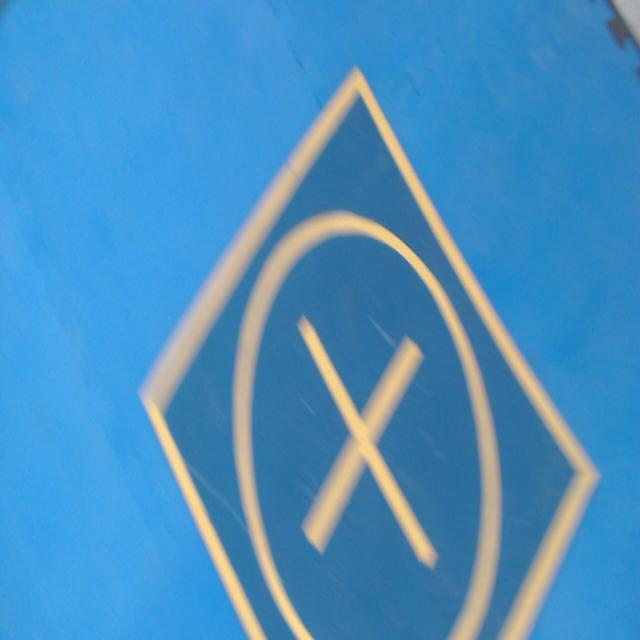base_pouso: (134, 60, 601, 639)
